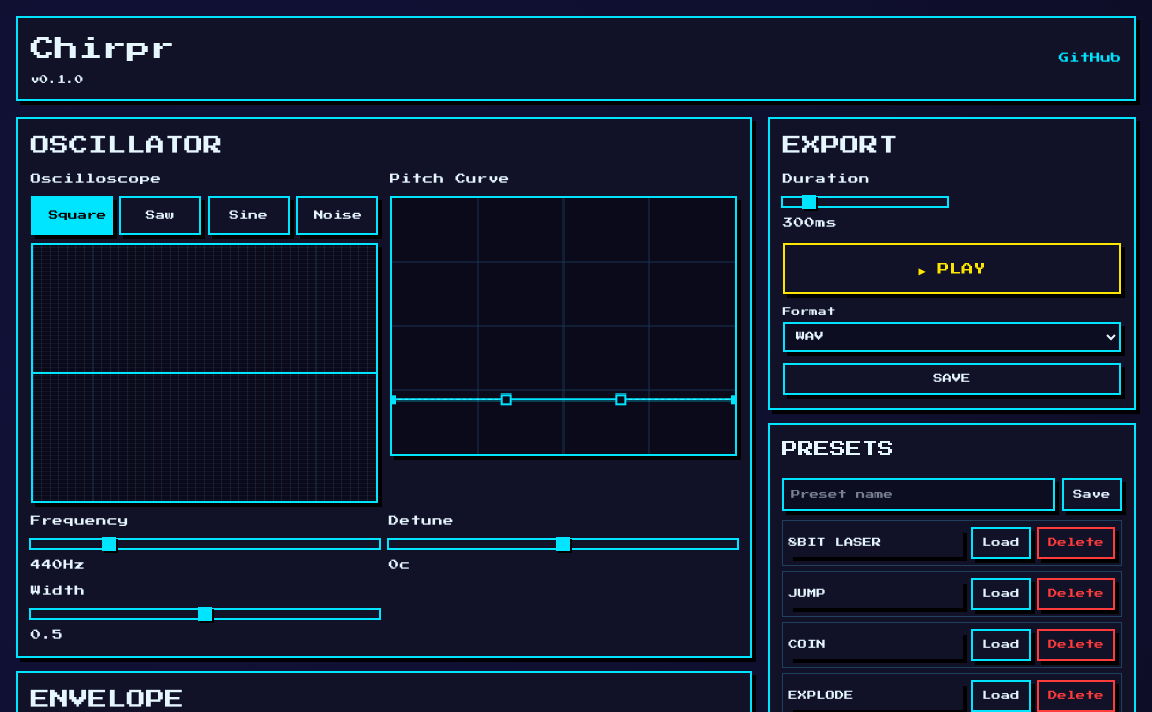
Test case: Dashboard › shows duty-cycle disabled note when waveform is not square
Expected: the button "▶ PLAY" is shown, [783, 243, 1121, 294]
Expected: the text "WIDTH IS AVAILABLE ONLY FOR SQUARE WAVEFORM." is not shown
Click the button "Saw" at {"x": 160, "y": 215}, box [119, 196, 201, 235]
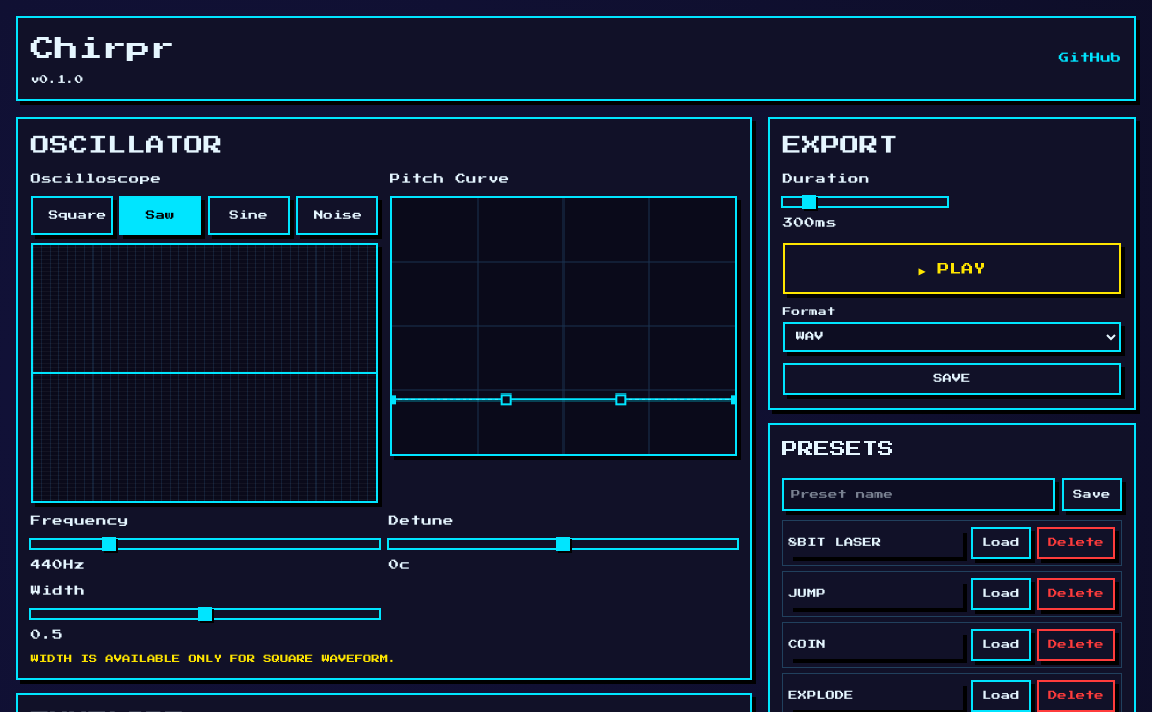
Now the text "WIDTH IS AVAILABLE ONLY FOR SQUARE WAVEFORM." is shown once, box [31, 655, 397, 663]
